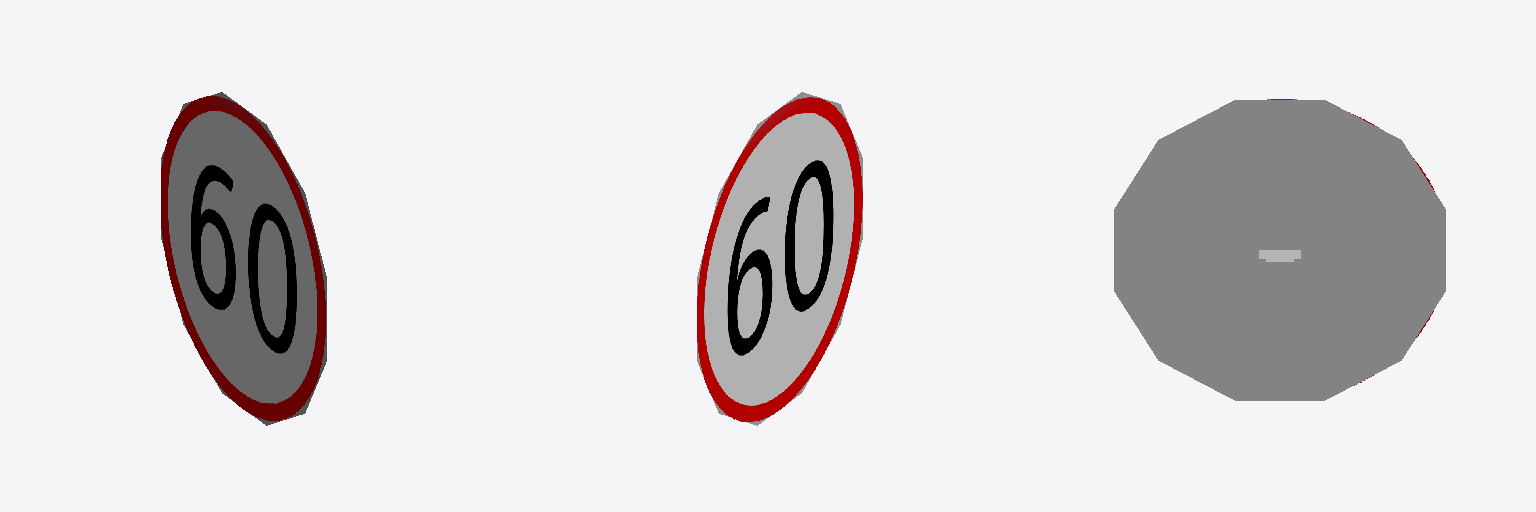
The picture shows the model from 3 angles: view 1: azimuth 30°, elevation 25°; view 2: azimuth 150°, elevation 25°; view 3: azimuth 270°, elevation 25°; orthographic projection.
Parts seen in each view (by area): view 1: cube, circle; view 2: cube, circle; view 3: circle, cube.
Part boxes in pixels (x1,y1,x2,y2): cube: (161, 96, 325, 420); circle: (161, 92, 326, 425); cube: (697, 97, 862, 421); circle: (697, 92, 862, 425); circle: (1114, 100, 1445, 400); cube: (1259, 99, 1434, 385).
Bounding box in the file's own units: 0.0641 × 0.75 × 0.75.
2 materials, 1 textured.